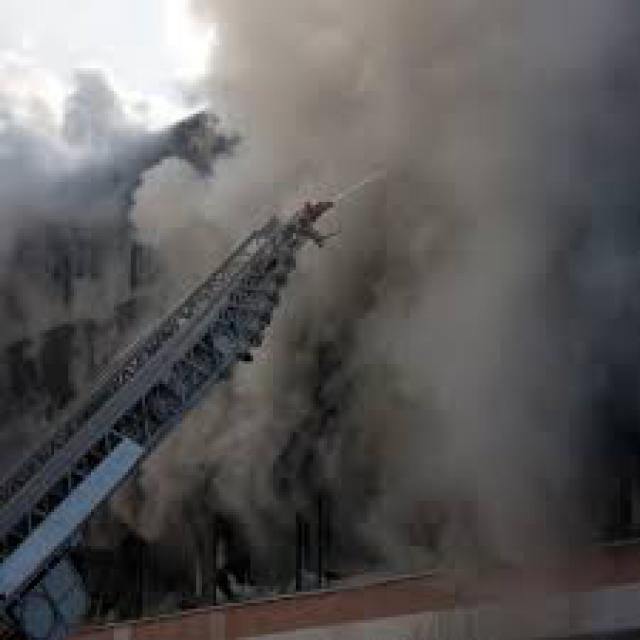smoke: (3, 3, 611, 532)
